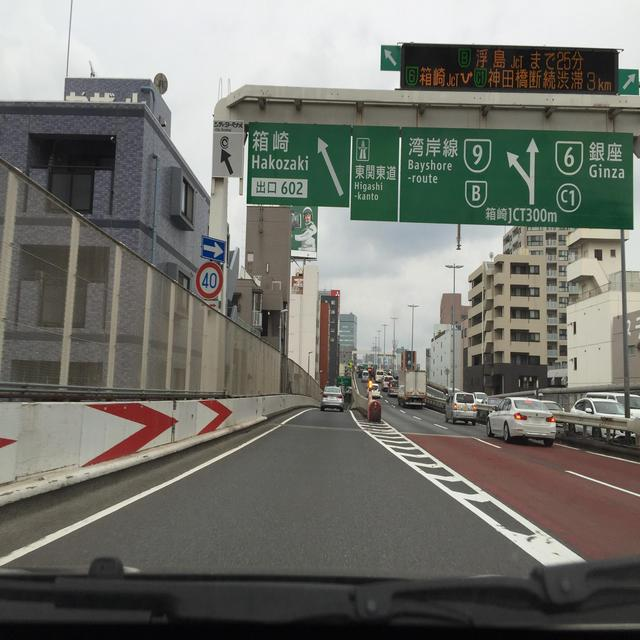Barrier: (0, 384, 320, 491), (554, 432, 639, 460), (351, 364, 372, 413), (424, 379, 446, 412)
Billboard: (279, 205, 339, 318), (627, 316, 639, 339)
Car: (372, 376, 564, 446), (569, 392, 639, 417), (320, 386, 344, 411)
